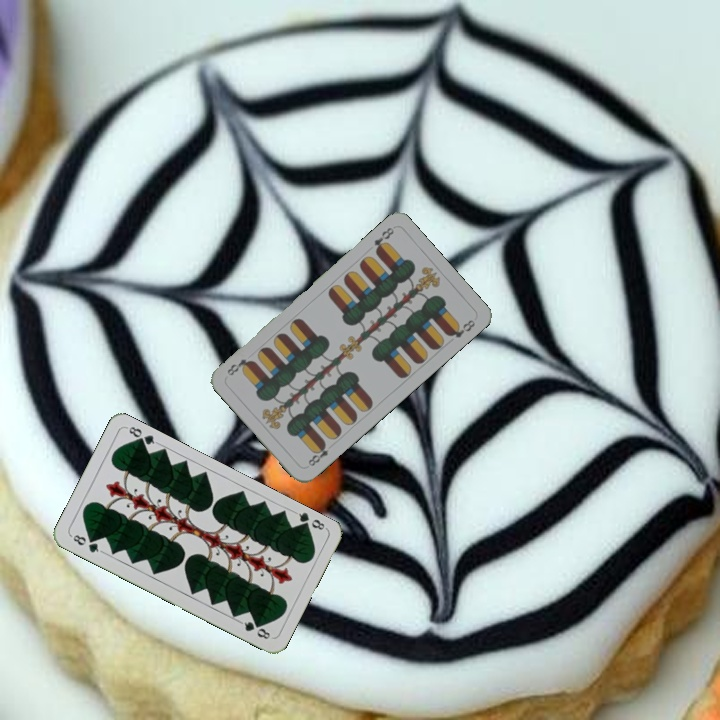E8: (304, 438, 336, 469), (370, 223, 397, 256)
G8: (291, 507, 329, 533), (67, 530, 105, 555)
